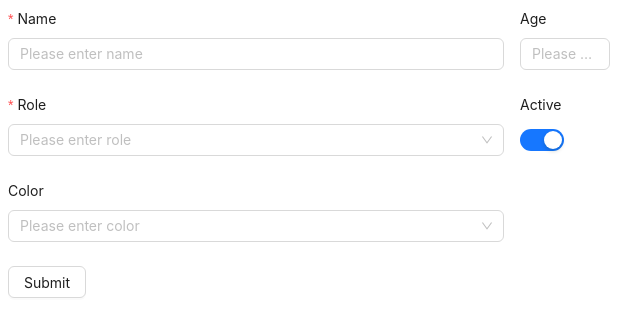
Scenario: AntdSchemaForm › should show required errors when submitting empty
Click the button "Submit".
click(47, 282)  # box [8,266,86,298]
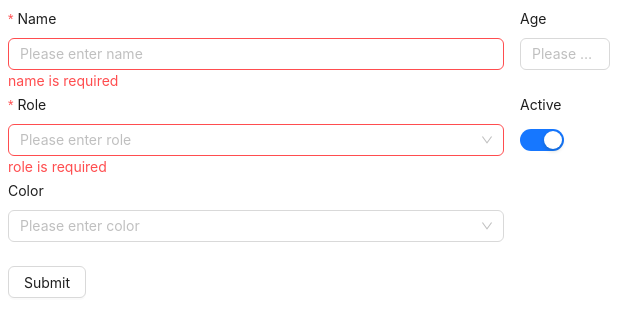
Expected: the text "name is required" is shown, [8,72,118,89]
Expected: the text "role is required" is shown, [8,158,107,175]
